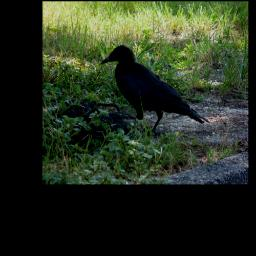Crow: (101, 44, 210, 137)
